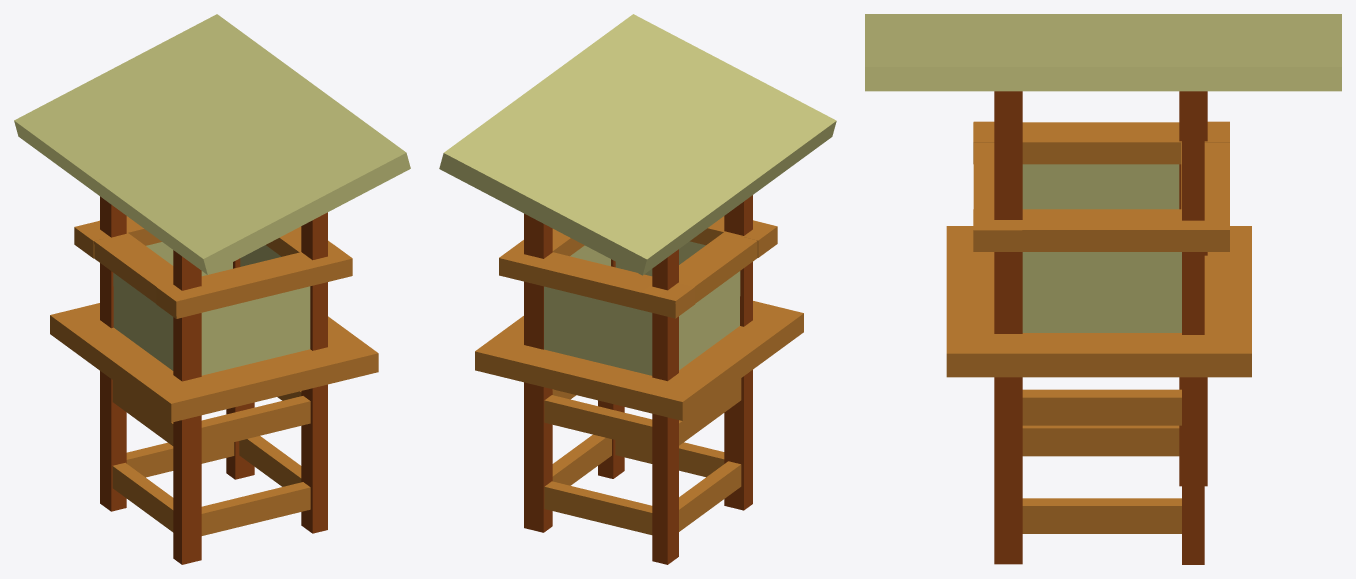
File: tower 1.fbx
3 renders of one model, left to right at view 1: azimuth 30°, elevation 25°; view 2: azimuth 150°, elevation 25°; view 3: azimuth 270°, elevation 25°, orthographic. The views are drawn at different scales.
Parts seen in each view (by area): view 1: Roof, Floor, Cube.025, Cube, Cube.017, Cube.024, Cube.020, Cube.030, Cube.031, Cube.001, Cube.002, Cube.018 (+6 smaller); view 2: Roof, Floor, Cube.029, Cube.020, Cube.023, Cube.028, Cube, Cube.030, Cube.031, Cube.021, Cube.022, Cube.018 (+6 smaller); view 3: Roof, Floor, Cube.027, Cube.017, Cube.023, Cube.026, Cube.030, Cube.031, Cube.015, Cube.016, Cube.018, Cube.024 (+2 smaller).
Part boxes in pixels (bbox=[...]): Roof: bbox=[14, 14, 410, 274]; Floor: bbox=[50, 303, 378, 422]; Cube.025: bbox=[201, 286, 310, 375]; Cube: bbox=[173, 250, 201, 564]; Cube.017: bbox=[301, 212, 327, 533]; Cube.024: bbox=[156, 247, 352, 318]; Cube.020: bbox=[100, 196, 126, 511]; Cube.030: bbox=[93, 220, 210, 318]; Cube.031: bbox=[113, 273, 173, 370]; Cube.001: bbox=[201, 482, 310, 535]; Cube.002: bbox=[201, 396, 310, 449]; Cube.018: bbox=[112, 462, 173, 532]; Roof: bbox=[439, 14, 836, 275]; Floor: bbox=[475, 301, 803, 420]; Cube.029: bbox=[544, 286, 652, 375]; Cube.020: bbox=[652, 249, 678, 564]; Cube.023: bbox=[524, 213, 552, 532]; Cube.028: bbox=[532, 252, 695, 318]; Cube: bbox=[724, 195, 752, 510]; Cube.030: bbox=[641, 220, 758, 318]; Cube.031: bbox=[679, 271, 740, 369]; Cube.021: bbox=[544, 395, 652, 448]; Cube.022: bbox=[544, 481, 652, 534]; Cube.018: bbox=[679, 461, 741, 531]; Roof: bbox=[865, 14, 1341, 91]; Floor: bbox=[946, 226, 1251, 377]; Cube.027: bbox=[1022, 252, 1181, 332]; Cube.017: bbox=[994, 91, 1022, 564]; Cube.023: bbox=[1182, 91, 1204, 564]; Cube.026: bbox=[973, 209, 1229, 251]; Cube.030: bbox=[973, 122, 1229, 164]; Cube.031: bbox=[1022, 164, 1179, 209]; Cube.015: bbox=[1022, 389, 1181, 425]; Cube.016: bbox=[1022, 498, 1181, 533]; Cube.018: bbox=[1022, 425, 1179, 456]; Cube.024: bbox=[973, 121, 1022, 251].
Size of the model in its own units: 61.44 by 116 by 97.11.
